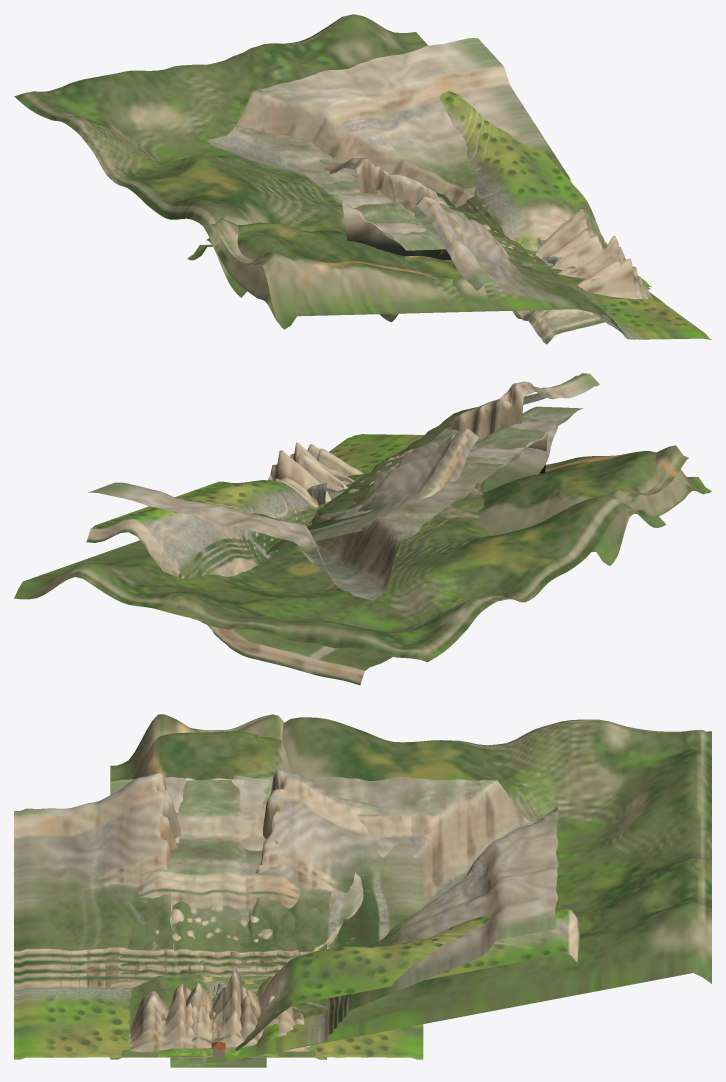
File: wadi_halam_kit.glb
The picture shows the model from 3 angles, top to bottom: view 1: azimuth 30°, elevation 25°; view 2: azimuth 150°, elevation 25°; view 3: azimuth 270°, elevation 25°; orthographic projection. The views are drawn at different scales.
Visible parts, largest first — view 1: bd_slope_corner, bd_wall_corner, bd_slope_near_b, bd_head_wall, bd_outer_corner, bd_slope_near_a, bd_crest_a, bd_crest_b, bd_wall_far_b, bd_wall_far_c; view 2: bd_slope_corner, bd_outer_corner, bd_wall_corner, bd_head_wall, bd_slope_near_b, bd_slope_near_a, bd_wall_far_c, bd_crest_a, bd_taper, bd_wall_far_b, bd_crest_b; view 3: bd_slope_corner, bd_head_wall, bd_wall_corner, bd_wall_far_c, bd_outer_corner, bd_slope_near_b, bd_crest_b, bd_crest_a, bd_wall_far_b, bd_wall_far_a, bd_slope_near_a, bd_scree_a (+1 smaller).
Part boxes in pixels (bbox=[...]): bd_slope_corner: bbox=[14, 14, 427, 297]; bd_wall_corner: bbox=[206, 38, 607, 246]; bd_slope_near_b: bbox=[190, 222, 662, 322]; bd_head_wall: bbox=[316, 148, 710, 339]; bd_outer_corner: bbox=[440, 91, 605, 248]; bd_slope_near_a: bbox=[187, 217, 576, 329]; bd_crest_a: bbox=[512, 209, 653, 343]; bd_crest_b: bbox=[517, 236, 651, 344]; bd_wall_far_b: bbox=[309, 178, 652, 299]; bd_wall_far_c: bbox=[322, 186, 650, 298]; bd_slope_corner: bbox=[14, 494, 665, 662]; bd_outer_corner: bbox=[86, 480, 392, 685]; bd_wall_corner: bbox=[88, 441, 537, 600]; bd_head_wall: bbox=[266, 373, 599, 555]; bd_slope_near_b: bbox=[316, 451, 705, 563]; bd_slope_near_a: bbox=[436, 445, 711, 565]; bd_wall_far_c: bbox=[335, 412, 575, 497]; bd_crest_a: bbox=[270, 448, 363, 505]; bd_taper: bbox=[474, 406, 577, 492]; bd_wall_far_b: bbox=[309, 410, 577, 523]; bd_crest_b: bbox=[268, 442, 354, 507]; bd_slope_corner: bbox=[206, 717, 711, 1062]; bd_head_wall: bbox=[14, 770, 423, 1059]; bd_wall_corner: bbox=[206, 777, 559, 1064]; bd_wall_far_c: bbox=[110, 779, 314, 1057]; bd_outer_corner: bbox=[235, 909, 579, 1050]; bd_slope_near_b: bbox=[121, 731, 317, 1057]; bd_crest_b: bbox=[112, 983, 323, 1059]; bd_crest_a: bbox=[113, 969, 326, 1059]; bd_wall_far_b: bbox=[113, 775, 326, 1058]; bd_wall_far_a: bbox=[110, 778, 326, 1059]; bd_slope_near_a: bbox=[110, 714, 326, 1059]; bd_scree_a: bbox=[170, 983, 266, 1067].
Size of what is drawn, in the model's own units: 126 by 47.8 by 174.
1 material, 1 textured.
